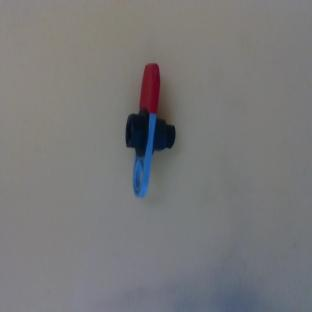part_1_good: (119, 61, 180, 198)
